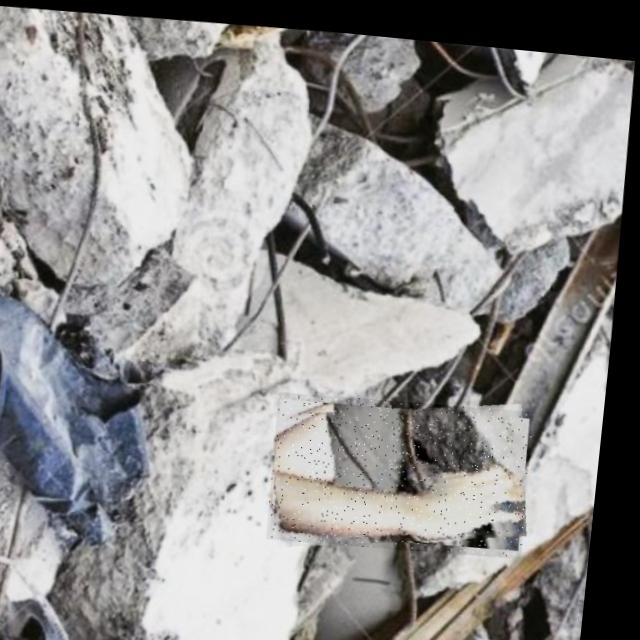Person in Rubble: (273, 381, 542, 551)
